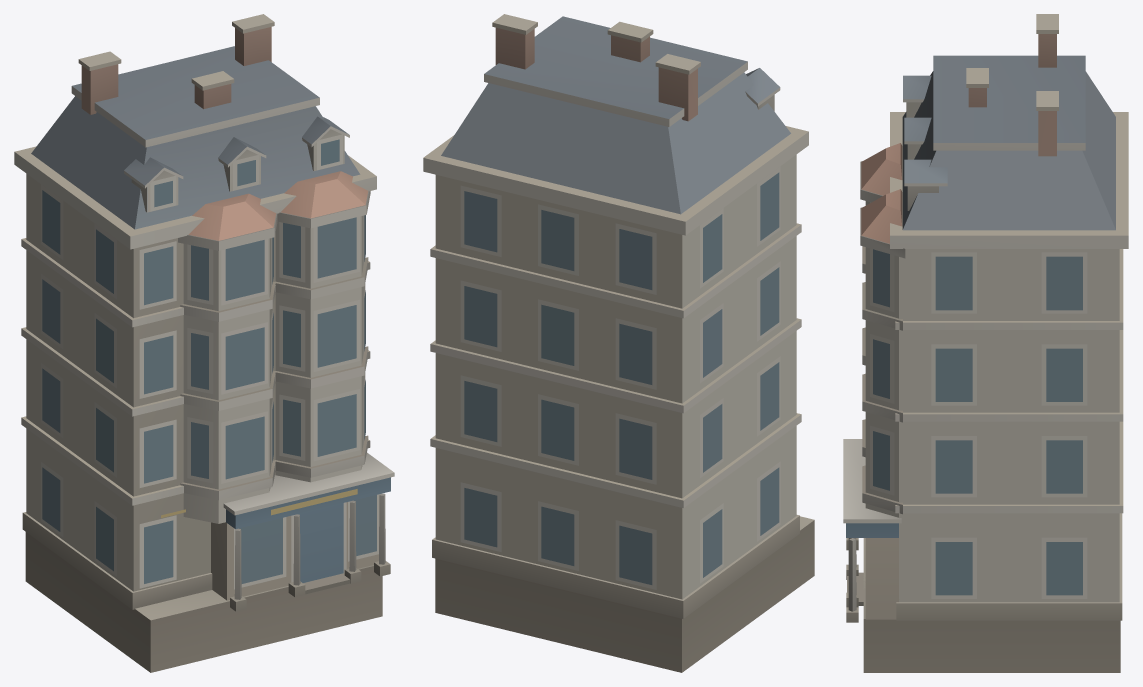
The model's file is hotel.lod2.glb.
3 views of the same model, side by side, from view 1: azimuth 30°, elevation 25°; view 2: azimuth 150°, elevation 25°; view 3: azimuth 270°, elevation 25° (orthographic). The views are drawn at different scales.
Bounding box in the file's own units: 7.99 × 16.61 × 7.75.
